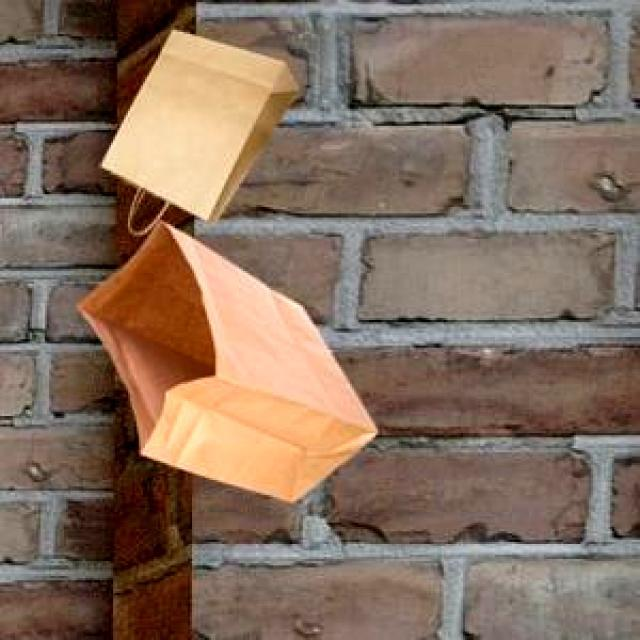Paper_Bag: (76, 218, 374, 498), (99, 27, 296, 220)
